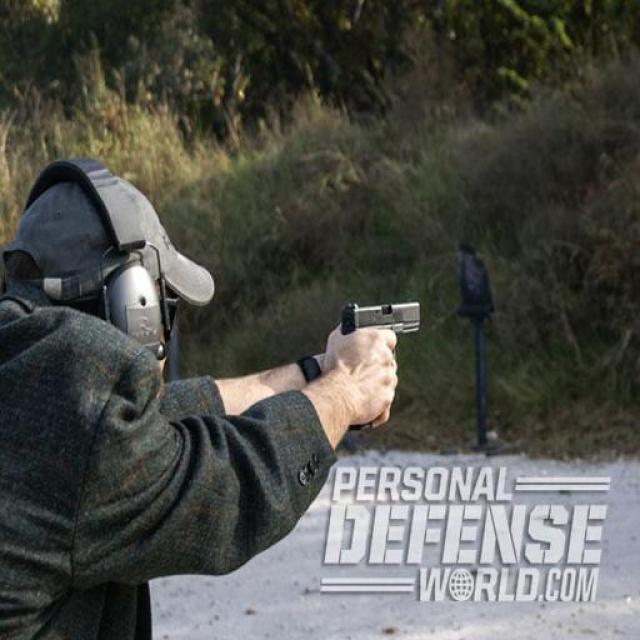pistol: (342, 295, 420, 431)
